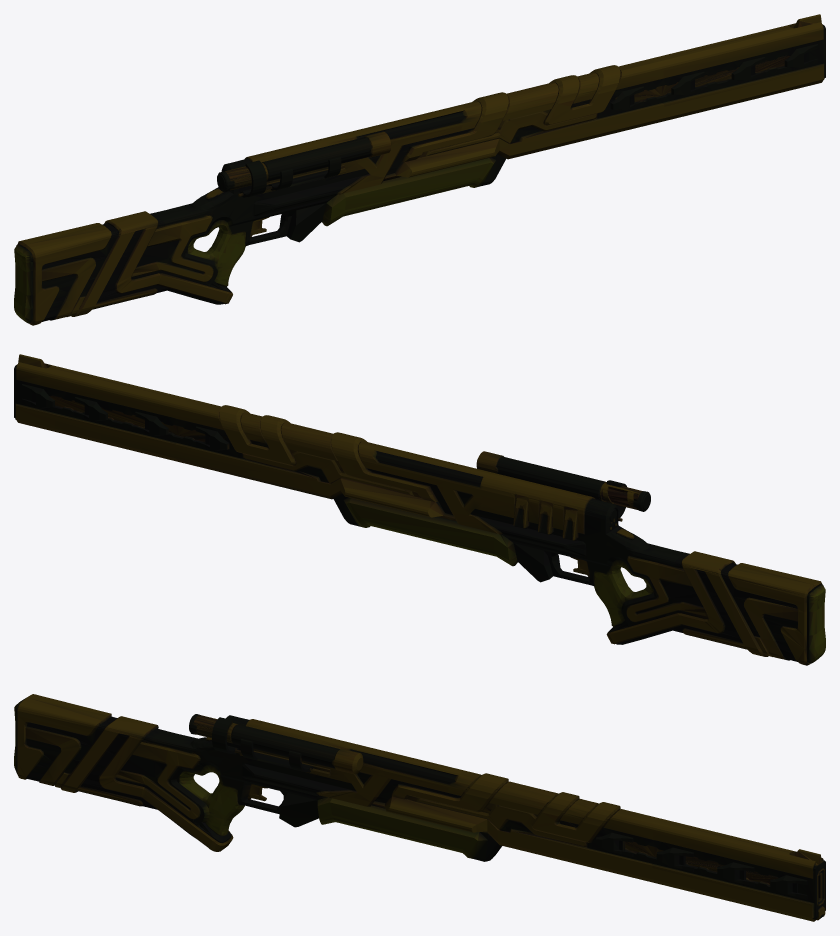
Rendered from TourDeForce.fbx.
3 renders of one model, top to bottom at view 1: azimuth 30°, elevation 25°; view 2: azimuth 150°, elevation 25°; view 3: azimuth 330°, elevation 25°, orthographic.
Parts seen in each view (by area): view 1: chamber sniper; view 2: chamber sniper; view 3: chamber sniper.
Boxes of the visible parts, x1,y1,x2,y2 form: chamber sniper: (14, 14, 825, 325); chamber sniper: (14, 354, 825, 665); chamber sniper: (14, 694, 825, 921).
Size of the model in its own units: 4258 by 733 by 297.
